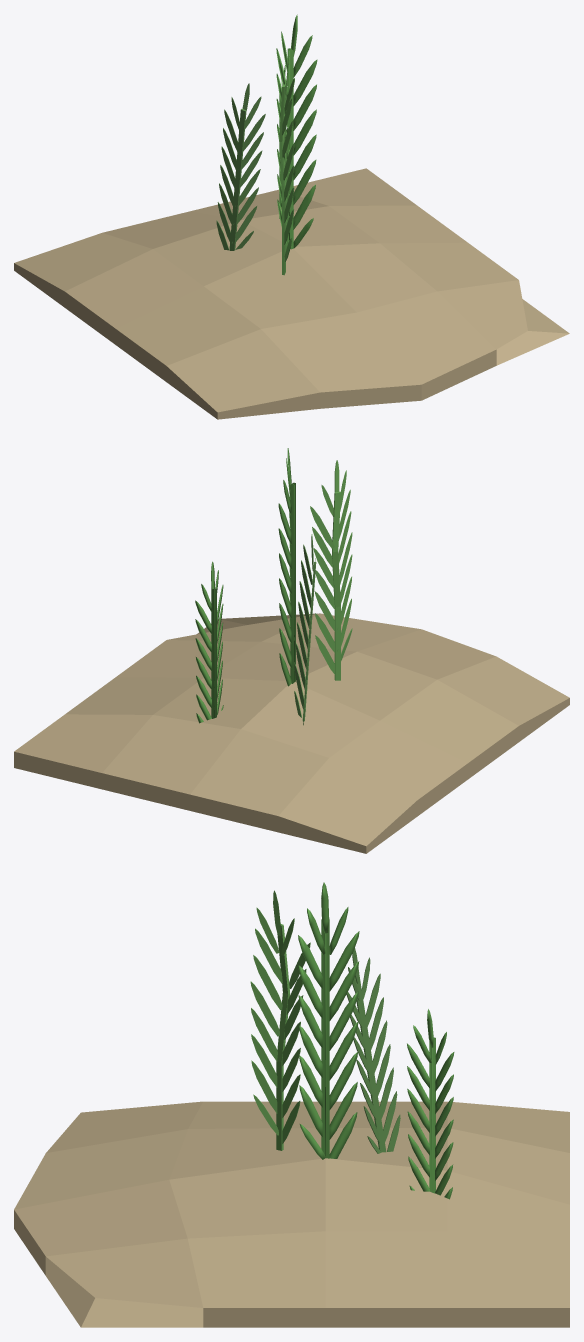
File: small-grass.glb
3 views of the same model, one above another, from view 1: azimuth 30°, elevation 25°; view 2: azimuth 150°, elevation 25°; view 3: azimuth 270°, elevation 25° (orthographic). The views are drawn at different scales.
Visible parts, largest first — view 1: Cube, Plane, Plane.001, Plane.002; view 2: Cube, Plane.002, Plane, Plane.003, Plane.001; view 3: Cube, Plane, Plane.002, Plane.003, Plane.001.
Boxes of the visible parts, x1,y1,x2,y2 form: Cube: (14,168,569,419); Plane: (276,14,317,249); Plane.001: (216,83,265,250); Plane.002: (279,57,294,275); Cube: (14,613,569,853); Plane.002: (310,460,352,680); Plane: (278,448,295,686); Plane.003: (195,561,223,723); Plane.001: (294,534,316,725); Cube: (14,1101,569,1327); Plane: (298,882,359,1159); Plane.002: (250,890,310,1150); Plane.003: (407,1009,454,1199); Plane.001: (346,948,400,1153).
Bounding box in the file's own units: 2.57 × 2.16 × 2.92.
